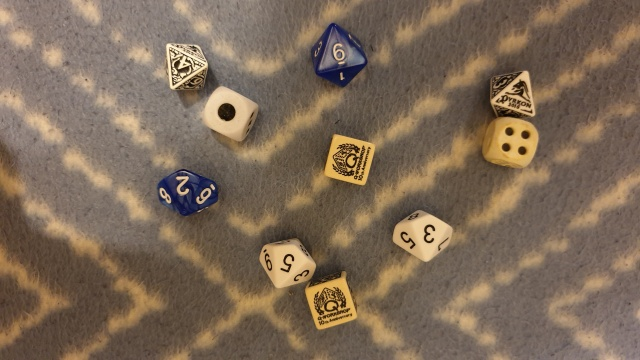d10-2: (151, 160, 227, 221)
d10-3: (389, 201, 458, 267)
d10-5: (249, 230, 320, 292)
d10-6: (310, 22, 372, 92)
d6-1: (200, 85, 263, 145)
d6-4: (481, 113, 541, 173)
d6p-6: (320, 132, 380, 192), (305, 270, 360, 332)
d8p-1: (483, 59, 540, 118)
d8p-4: (159, 35, 208, 94)
